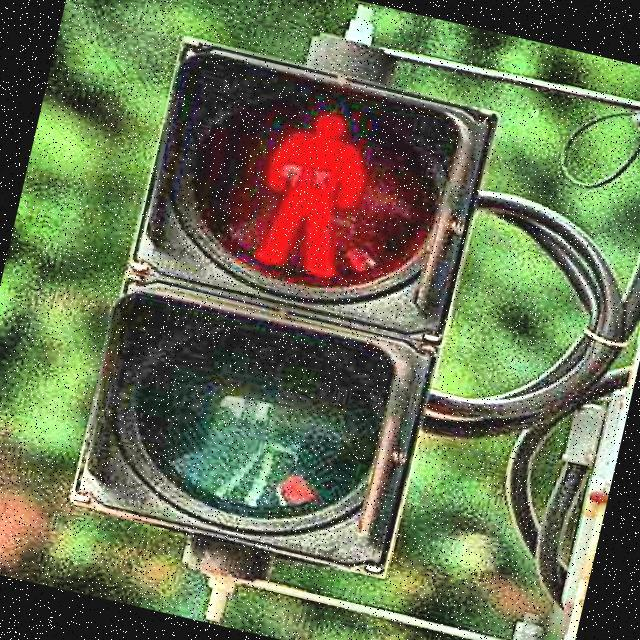red_light: (233, 93, 381, 286)
